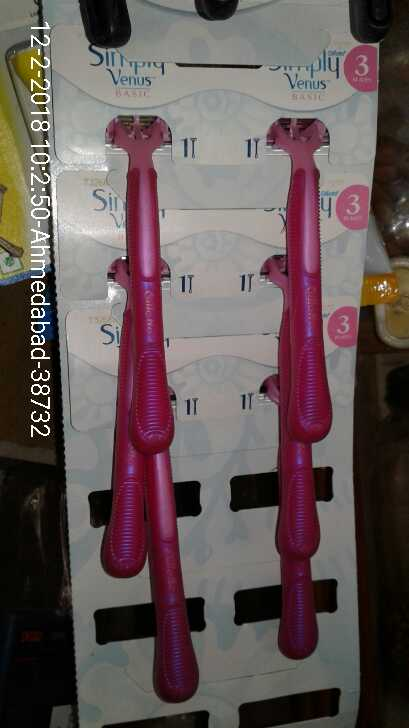reject: (176, 243, 246, 328)
